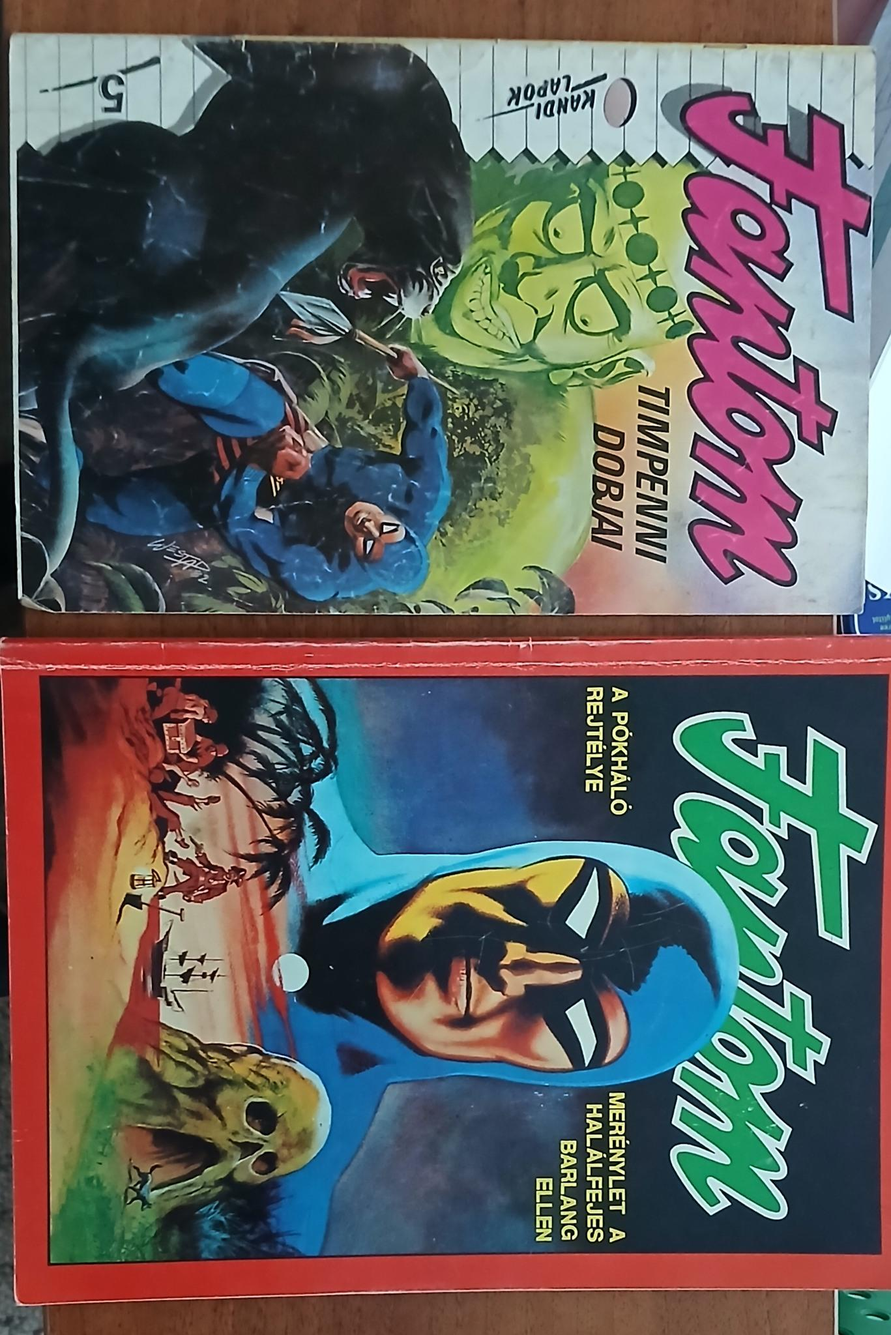comic: (2, 634, 891, 1302), (5, 34, 874, 619)
